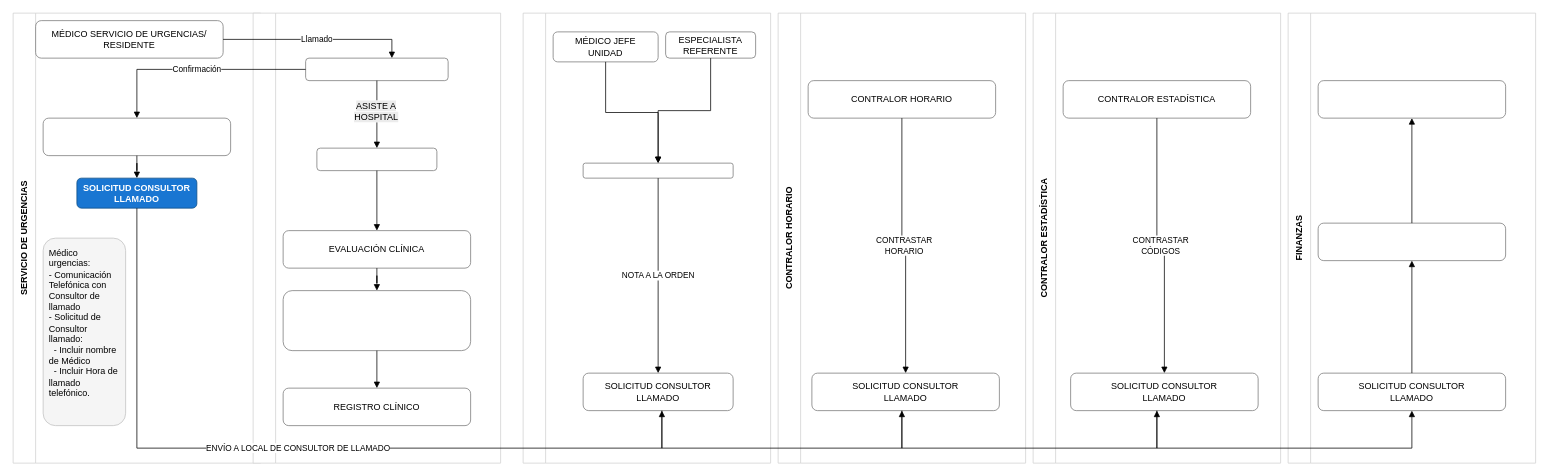
Image size: 1549x476. Some labels were removed from this diagram. The shapes that lost their labels are listed below. From the top down, each one's box as (x1, y1, x2, y2) in pixels, then its label:
(305, 57, 448, 81): CONSULTOR DE LLAMADO
(1317, 80, 1506, 118): CONTRALOR REFERENTE
(42, 117, 231, 156): MÉDICO URGENCIAS
(316, 147, 437, 171): RELOJ CONTROL
(582, 162, 733, 178): ANÁLISIS CASO CLÍNICO
(252, 12, 501, 463): EVALUACIÓN ESPECIALISTA
(522, 12, 771, 463): CONTRALOR CLÍNICO
(1317, 222, 1506, 261): CONTRALOR FINANZAS
(282, 290, 471, 351): Contestar Interconsulta • Estado Ejecutado. • Evolución a Paciente
